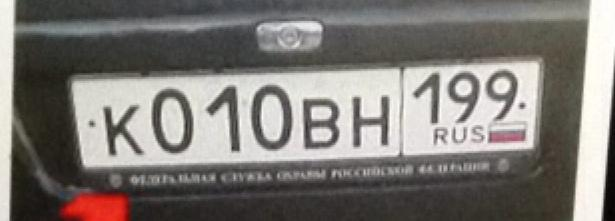license-plateSW: (70, 66, 542, 166)
